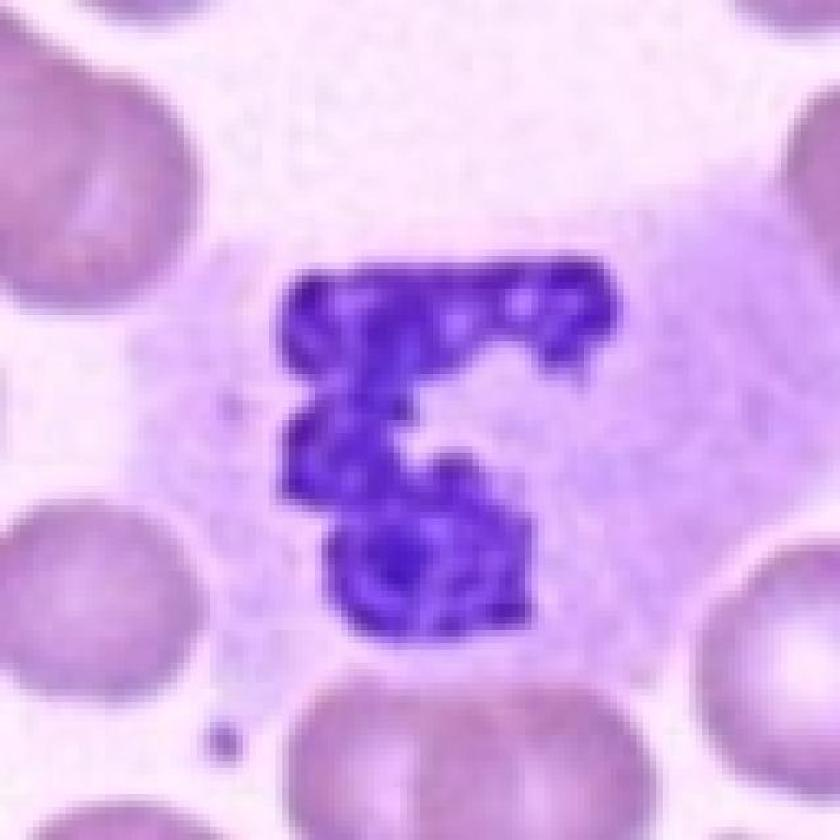neutrophil: (186, 139, 740, 699)
